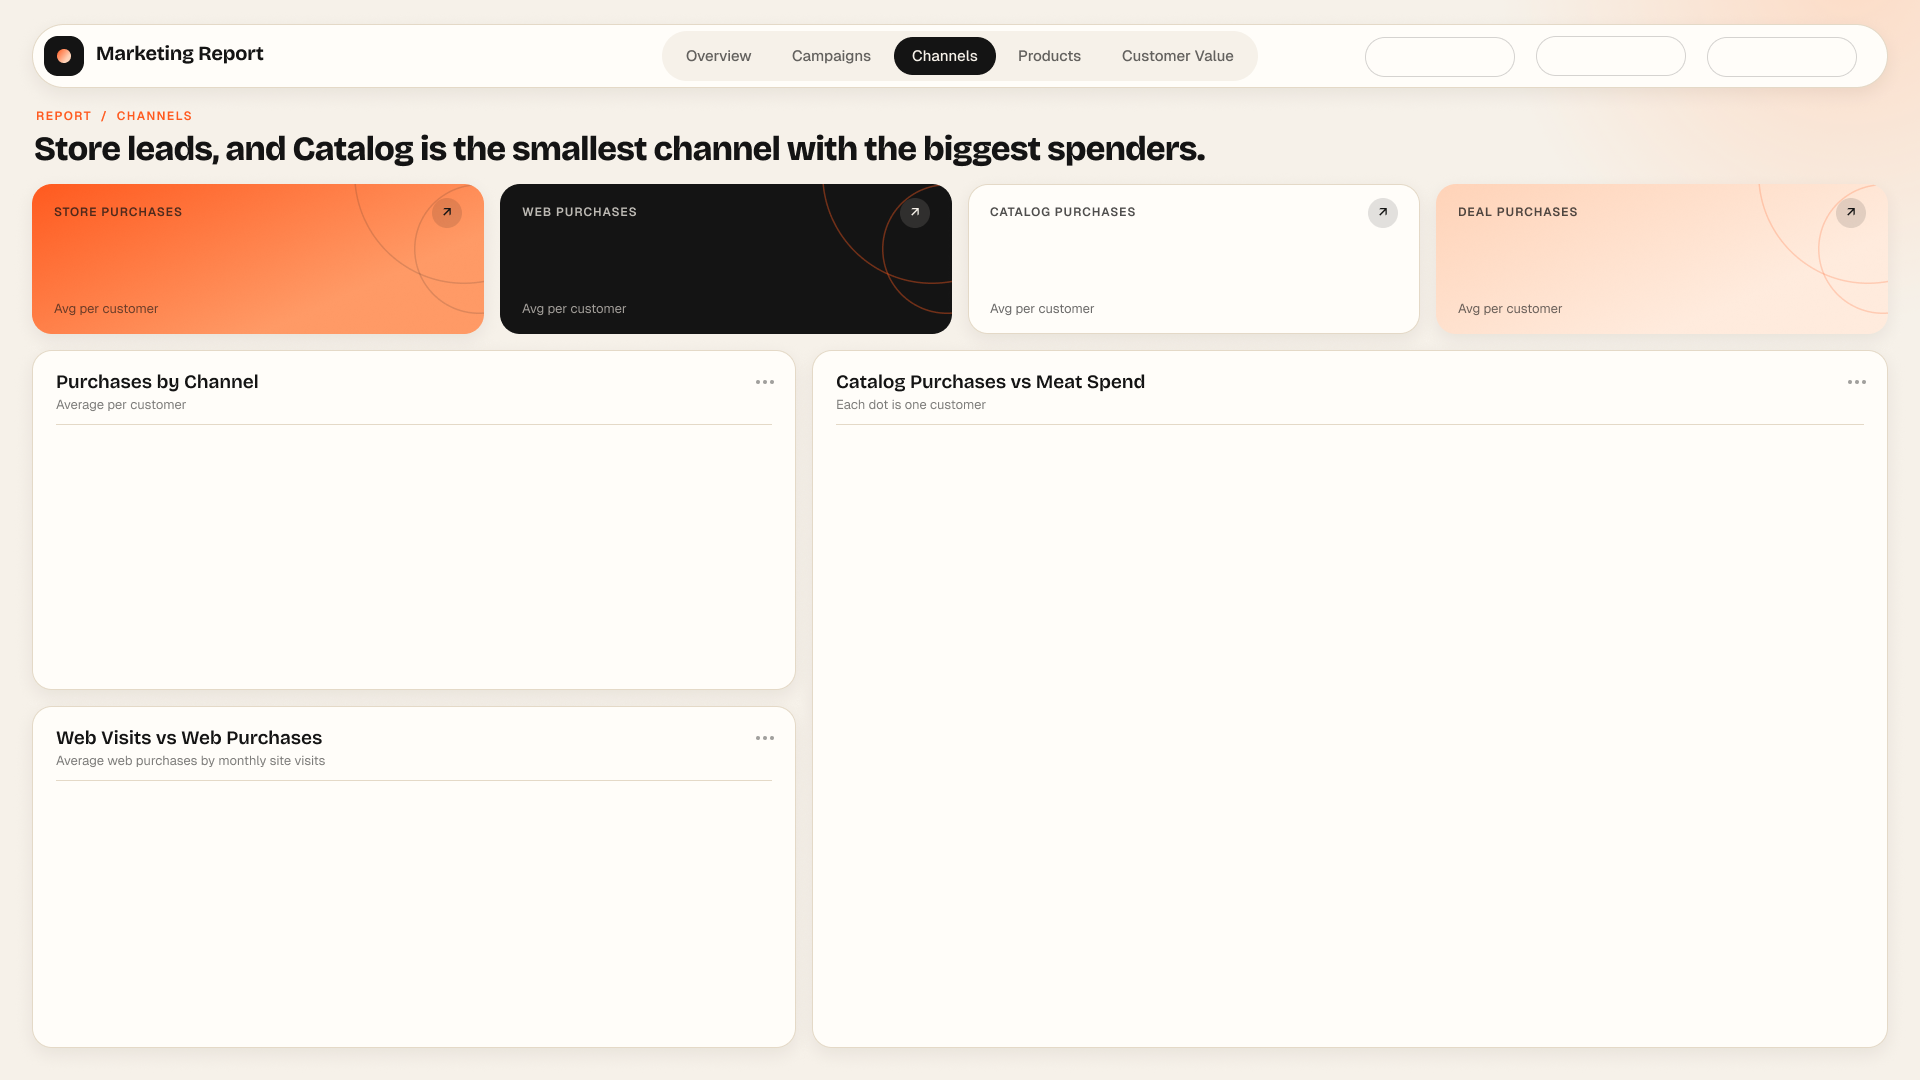

The page's visual inventory and layout, read from the dashboard file:
{"tool":"powerbi","page":{"name":"Channels","canvas":[1920,1080],"ordinal":2},"visuals":[{"type":"cardVisual","fields":{"Data":["Avg(marketing_data_cleaned.NumStorePurchases)"]},"box":[17.1,190.5,177.3,113.2],"z":0},{"type":"cardVisual","fields":{"Data":["Avg(marketing_data_cleaned.NumWebPurchases)"]},"box":[484.8,196.2,177.3,113.2],"z":1000},{"type":"cardVisual","fields":{"Data":["Avg(marketing_data_cleaned.NumCatalogPurchases)"]},"box":[960.2,196.2,177.3,113.2],"z":2000},{"type":"cardVisual","fields":{"Data":["Avg(marketing_data_cleaned.NumDealsPurchases)"]},"box":[1431.8,196.2,177.3,113.2],"z":3000},{"type":"clusteredBarChart","fields":{"Category":["Channels.Channel"],"Y":["marketing_data_cleaned.Avg Purchases per Customer"]},"box":[56.4,402.3,735.4,276.7],"z":4000},{"type":"scatterChart","fields":{"X":["marketing_data_cleaned.NumCatalogPurchases"],"Y":["marketing_data_cleaned.MntMeatProducts"]},"box":[815.5,415,1061.2,633.4],"z":5000},{"type":"lineChart","fields":{"Category":["marketing_data_cleaned.Web Visits Group"],"Y":["marketing_data_cleaned.Avg Web Purchases"]},"box":[56.4,768.1,735.4,280.3],"z":6000},{"type":"actionButton","box":[662.3,27.1,110.4,43.4],"z":7000},{"type":"actionButton","box":[778.2,27.1,110.4,43.4],"z":8000},{"type":"actionButton","box":[998.9,27.1,110.4,43.4],"z":9000},{"type":"actionButton","box":[1112.9,27.1,128.5,43.4],"z":10000},{"type":"slicer","fields":{"Values":["marketing_data_cleaned.Income_Tier"]},"box":[1373,30,135.7,43.4],"z":11000},{"type":"slicer","fields":{"Values":["marketing_data_cleaned.Education"]},"box":[1543.9,30.8,135,43.4],"z":12000},{"type":"slicer","fields":{"Values":["marketing_data_cleaned.Country"]},"box":[1714,30,135,43],"z":13000}]}

Visuals, with their boxes on the page's 1920x1080 design canvas (x1, y1, x2, y2). These are canvas units, not pixel positions in the 1920x1080 screenshot, which may show the page scaled, cropped or inside an application window:
cardVisual - Avg(marketing_data_cleaned.NumStorePurchases): 17 190 194 304
cardVisual - Avg(marketing_data_cleaned.NumWebPurchases): 485 196 662 309
cardVisual - Avg(marketing_data_cleaned.NumCatalogPurchases): 960 196 1138 309
cardVisual - Avg(marketing_data_cleaned.NumDealsPurchases): 1432 196 1609 309
clusteredBarChart - Channels.Channel x marketing_data_cleaned.Avg Purchases per Customer: 56 402 792 679
scatterChart - marketing_data_cleaned.NumCatalogPurchases x marketing_data_cleaned.MntMeatProducts: 816 415 1877 1048
lineChart - marketing_data_cleaned.Web Visits Group x marketing_data_cleaned.Avg Web Purchases: 56 768 792 1048
actionButton: 662 27 773 70
actionButton: 778 27 889 70
actionButton: 999 27 1109 70
actionButton: 1113 27 1241 70
slicer - marketing_data_cleaned.Income_Tier: 1373 30 1509 73
slicer - marketing_data_cleaned.Education: 1544 31 1679 74
slicer - marketing_data_cleaned.Country: 1714 30 1849 73
